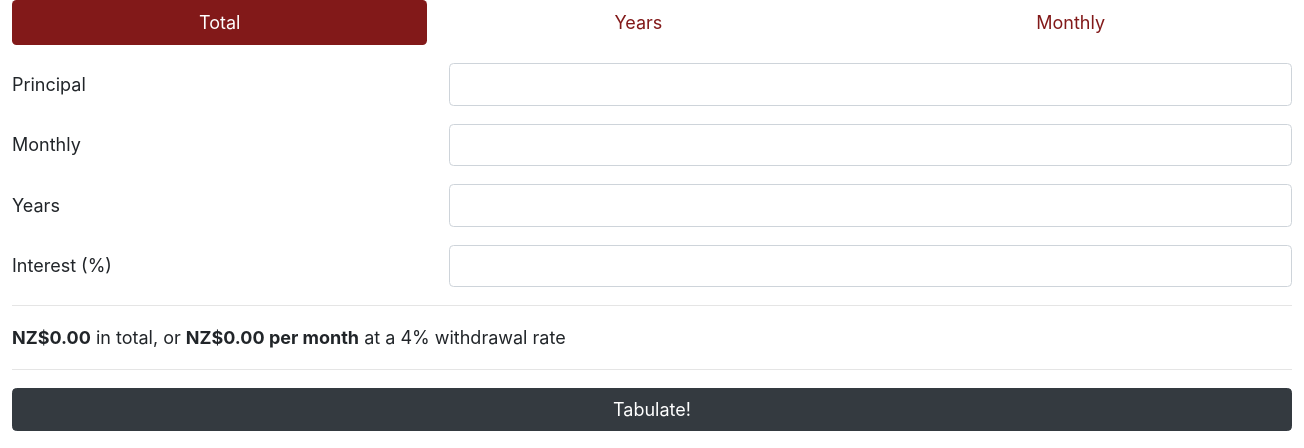
Scenario: components/parts render › mode monthly
Click the tab "Monthly": (1071, 22) [1036,12,1105,33]
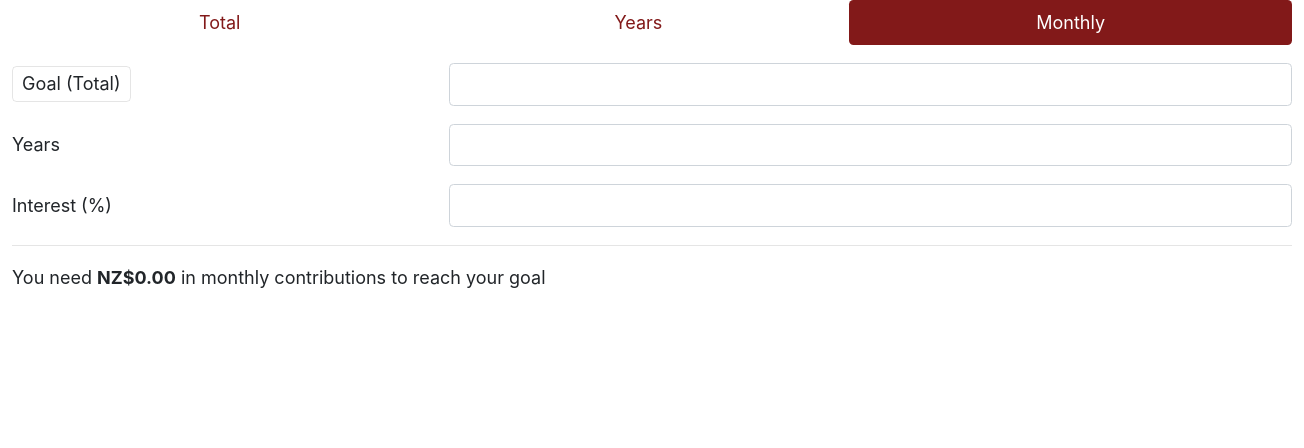
Now the label labelled "Principal" is gone
Now the text "You need NZ$0.00 in monthly contributions to reach your goal" is shown, box [12,266,546,288]
Now the text "NZ$0.00 in total, or NZ$0.00 per month at a 4% withdrawal rate" is gone
